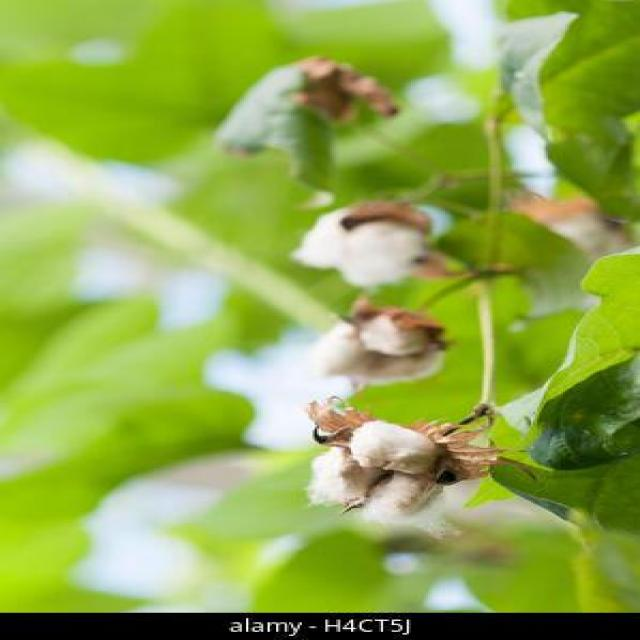Early_blight: (295, 395, 509, 540)
